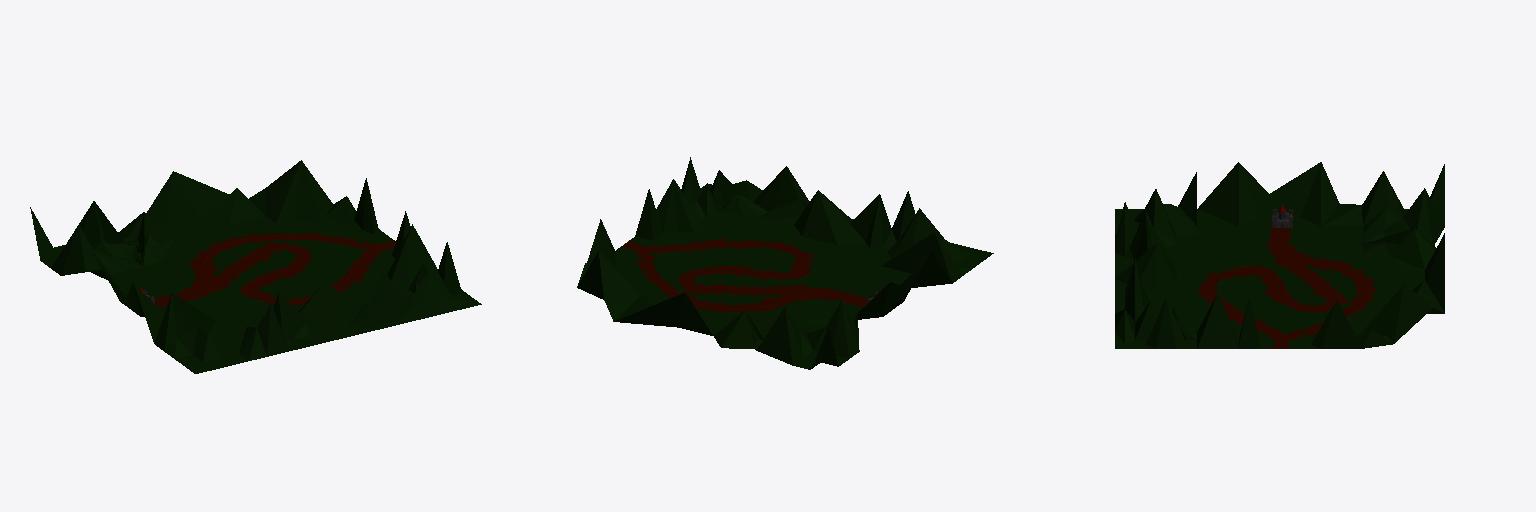
File: map.obj
The picture shows the model from 3 angles: view 1: azimuth 30°, elevation 25°; view 2: azimuth 150°, elevation 25°; view 3: azimuth 270°, elevation 25°; orthographic projection.
Visible parts, largest first — view 1: Plane, Plane.002, Plane.003; view 2: Plane, Plane.002, Plane.003; view 3: Plane, Plane.002, Plane.003.
Part boxes in pixels (left/top/right/bottom): Plane: left=30, top=160, right=481, bottom=373; Plane.002: left=155, top=239, right=395, bottom=306; Plane.003: left=177, top=233, right=375, bottom=295; Plane: left=577, top=157, right=993, bottom=369; Plane.002: left=620, top=239, right=867, bottom=306; Plane.003: left=635, top=251, right=839, bottom=312; Plane: left=1115, top=162, right=1444, bottom=348; Plane.002: left=1198, top=226, right=1351, bottom=348; Plane.003: left=1285, top=242, right=1376, bottom=339.
Bounding box in the file's own units: 38.36 × 6.23 × 38.36.